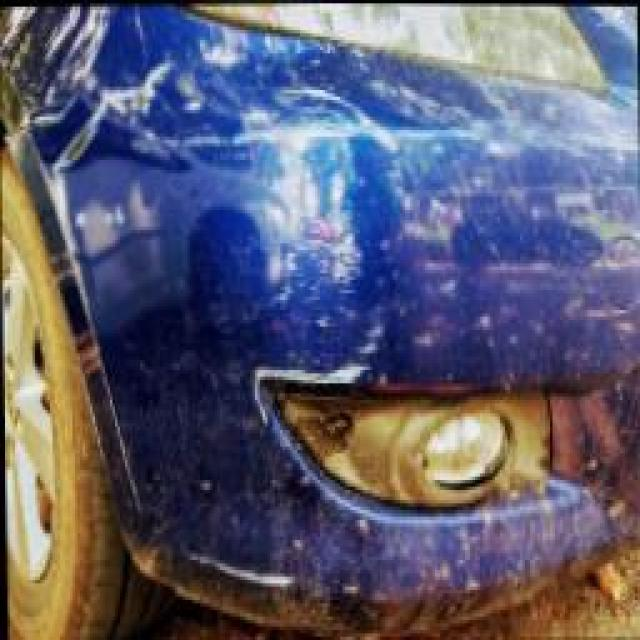Bumper: (90, 83, 640, 618)
Fender: (0, 7, 125, 121)
